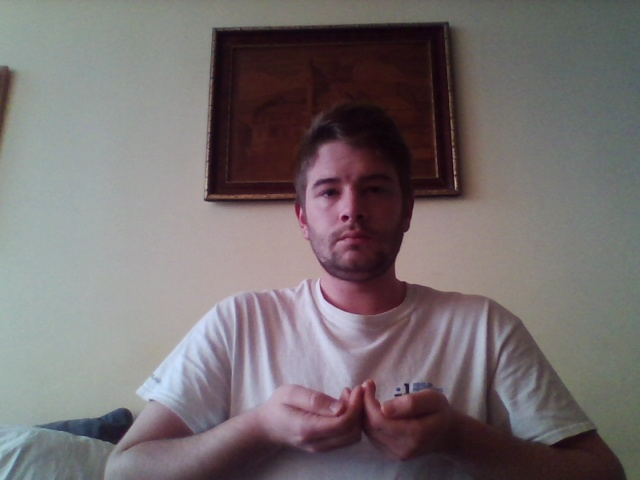kako: (264, 376, 451, 463)
